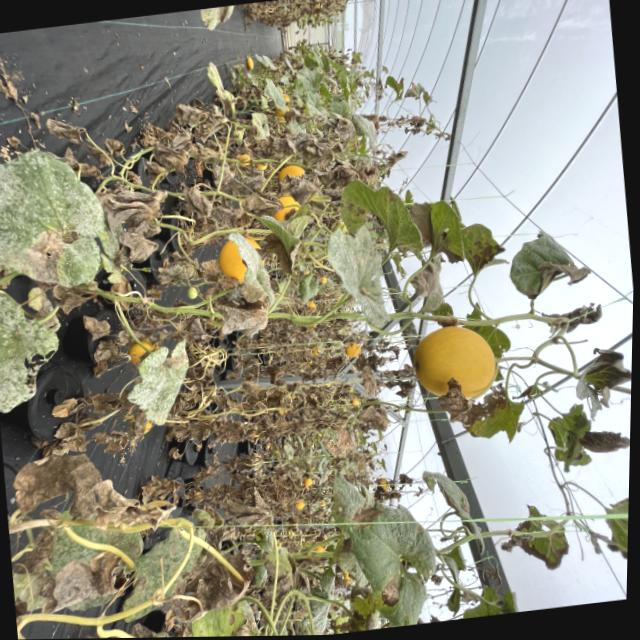CMV: (350, 106, 381, 150)
alternaria leaf blight: (324, 215, 387, 336)
bacterial wilt: (337, 487, 438, 632), (495, 216, 588, 321), (340, 170, 431, 257), (9, 449, 106, 527), (52, 552, 129, 623), (570, 334, 632, 413), (425, 192, 474, 288), (459, 384, 528, 437), (510, 504, 565, 568), (438, 469, 479, 554), (455, 214, 504, 281), (547, 292, 606, 346), (90, 465, 138, 531), (51, 408, 96, 455), (242, 138, 288, 176), (317, 111, 354, 156), (301, 138, 336, 181), (240, 493, 274, 534), (353, 367, 379, 415), (185, 92, 216, 131), (96, 386, 127, 424), (94, 325, 117, 367), (123, 226, 155, 256), (58, 387, 89, 416), (102, 424, 130, 453), (331, 425, 358, 455), (367, 402, 390, 434), (326, 394, 352, 420)
